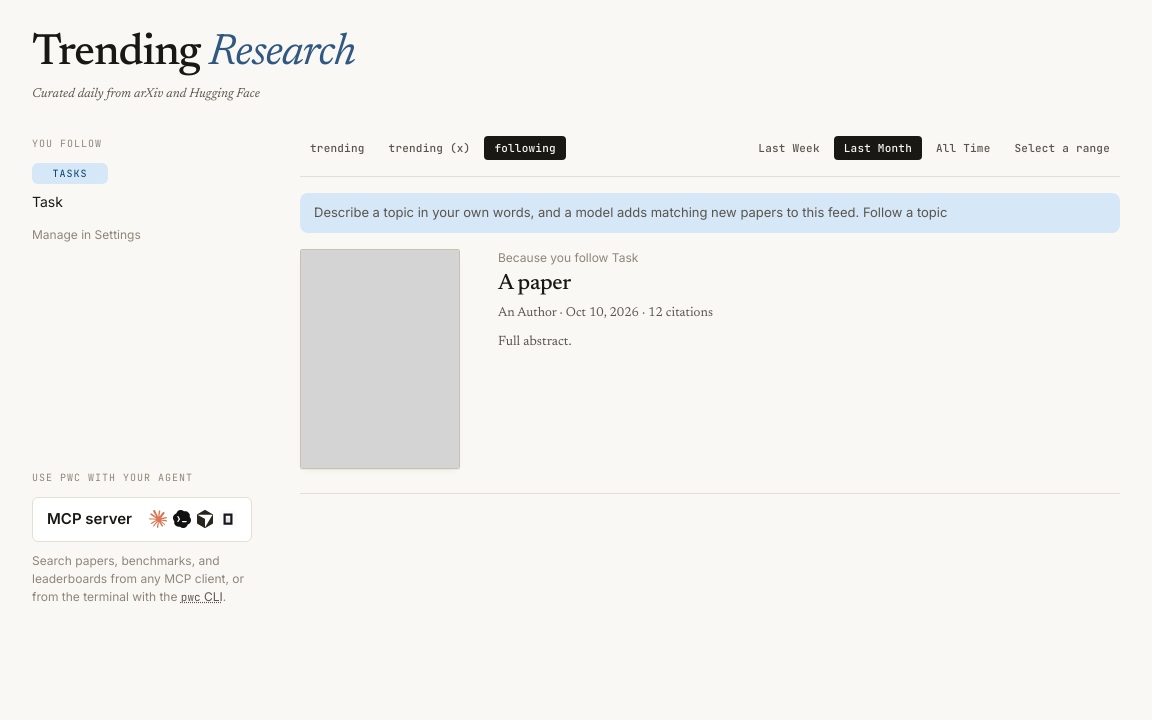
Test case: offers accounts without a topic a pop-up to describe one above their follows feed
What coordinates should you click on to do the following:
click the button "Follow a topic"
I would click on:
 (905, 213)
Its box is [863, 203, 947, 222].
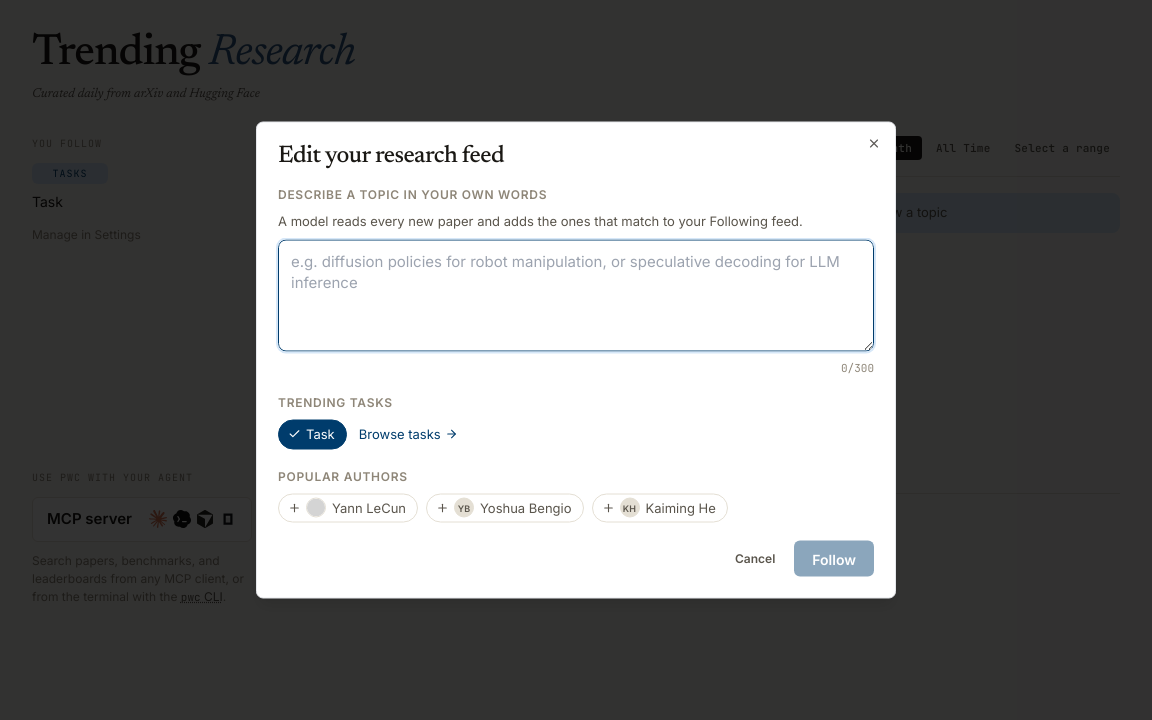
Check: the text box named "Research topic" is shown, box [278, 239, 874, 351]
